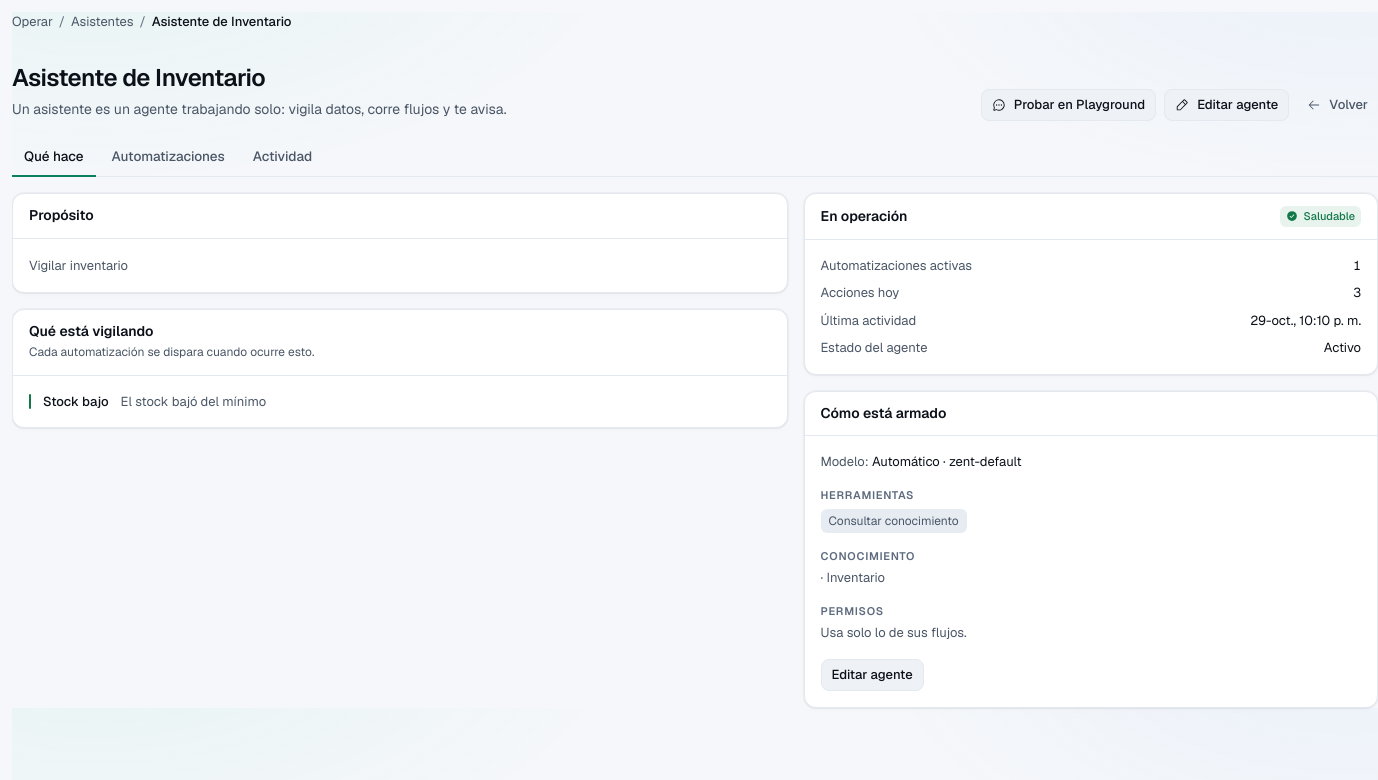
AssistantDetailPage › muestra actividad legible con detalles técnicos bajo demanda
What coordinates should you click on to do the following:
click the tab with test id "assistant-tab-actividad"
I would click on:
 (282, 157)
Its box is 241,137 -> 324,177.
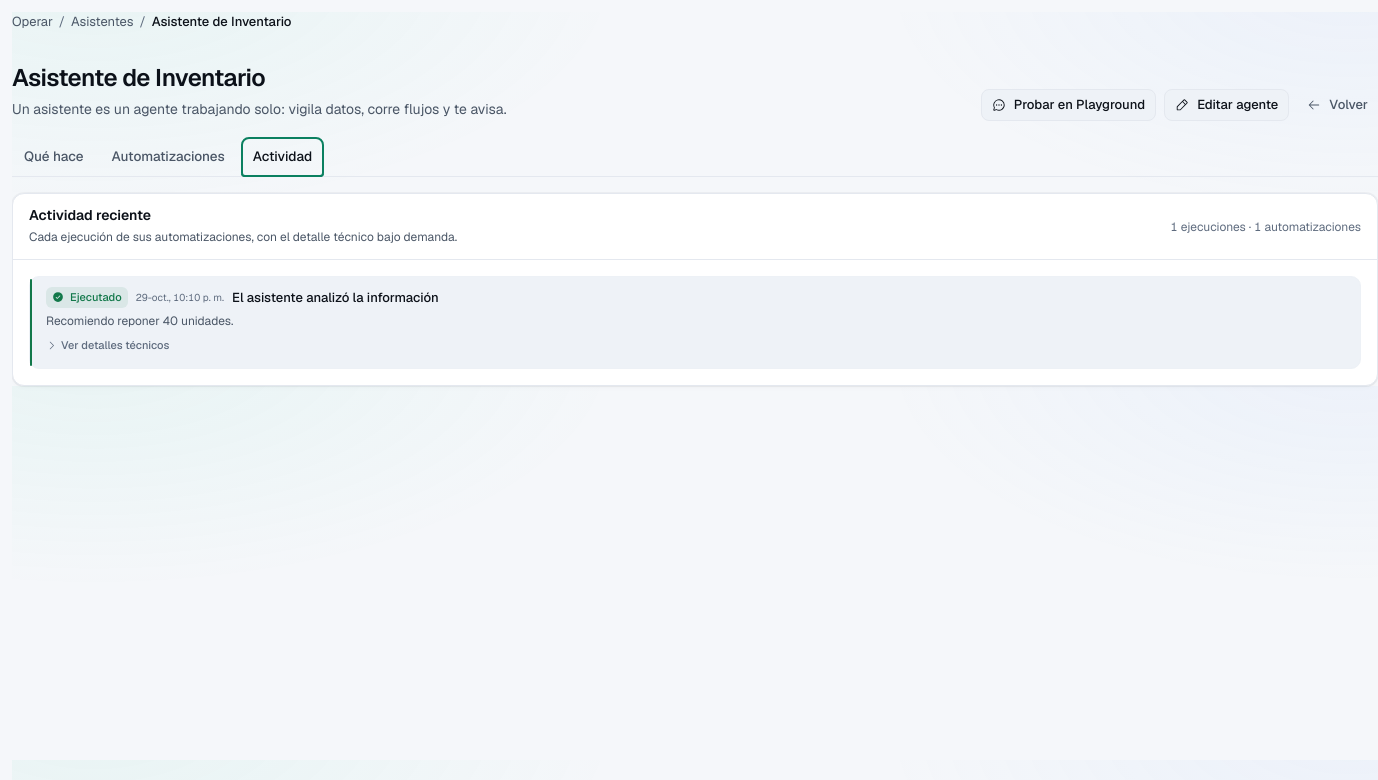
Check: the text "run-9" is not shown
Check: the text "El asistente analizó la información" is shown, box 232,288 -> 438,307
What coordinates should you click on to do the following:
click the button with test id "assistant-tech-0"
I would click on:
 (108, 345)
Its box is 46,337 -> 169,354.
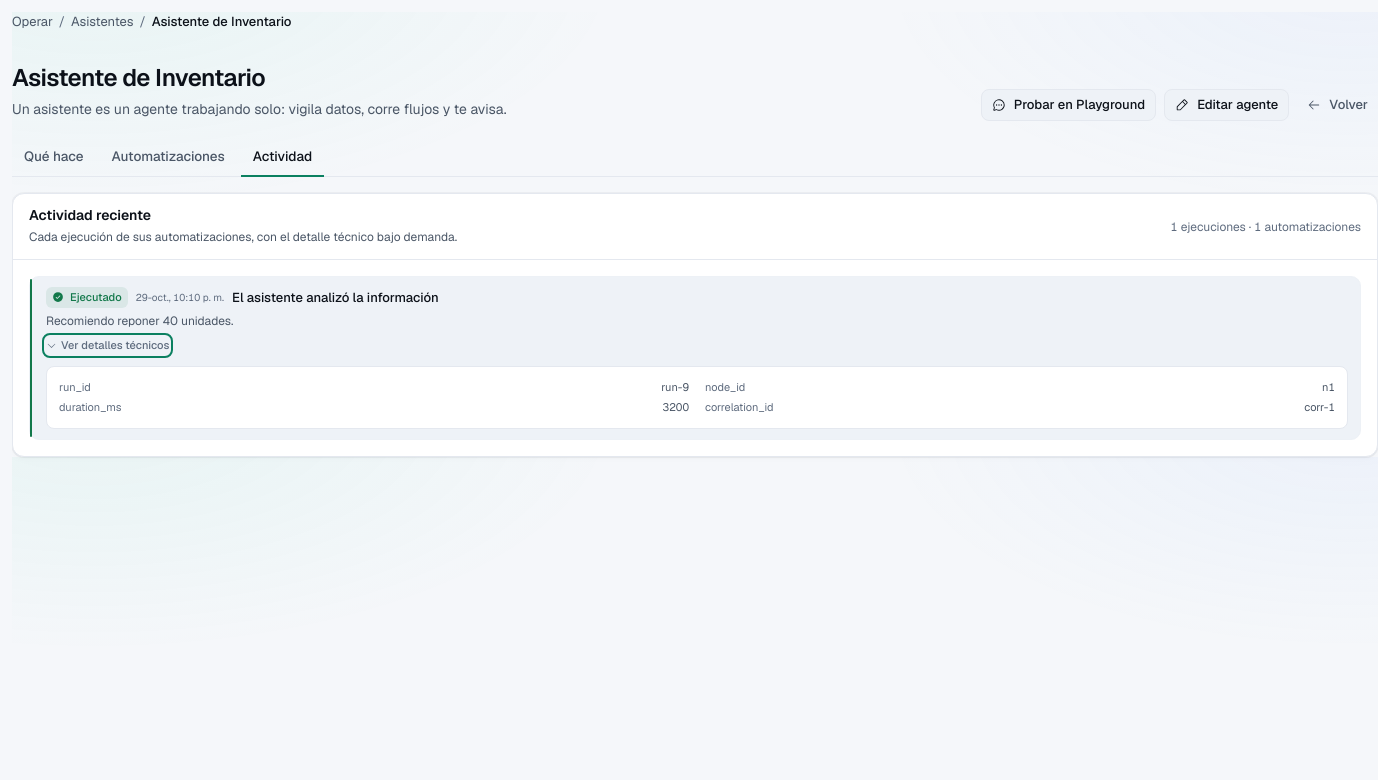
Check: the text "run-9" is shown, box 661,379 -> 689,395
Check: the text "corr-1" is shown, box 1304,399 -> 1335,416
